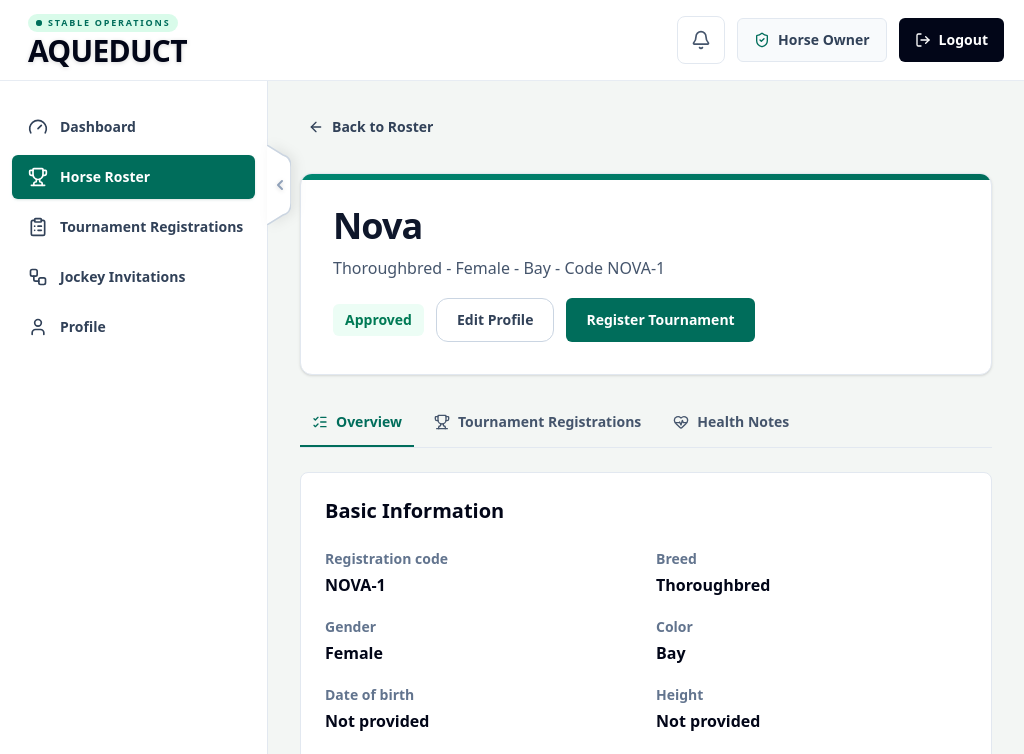
Test: OwnerHorseProfilePage › paginates this horse's tournament registrations
Check: the heading "Nova" is shown, box [333,201,422,250]
Click the button "Tournament Registrations" at [538, 423], box [422,399,653,447]
(page scrolled)
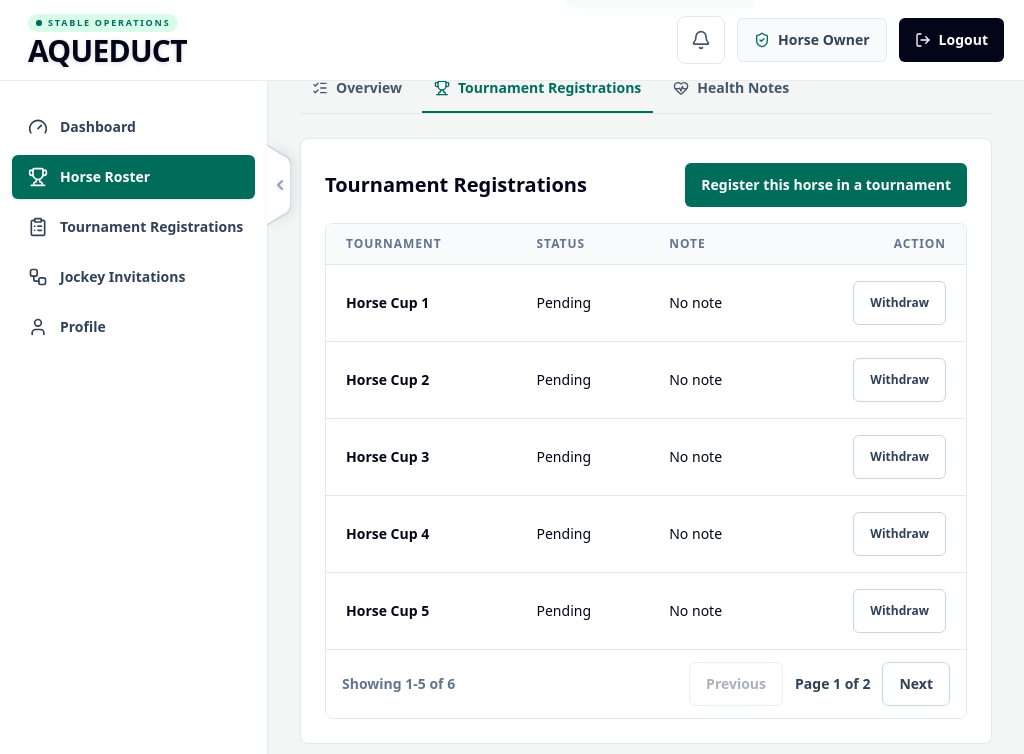
Check: the text "Horse Cup 6" is not shown
Check: the text "Horse Cup 1" is shown, box [326,264,516,342]
Check: the text "Showing 1-5 of 6" is shown, box [342,674,455,694]
Click the button with aria-label "next page" at [916, 684], box [882,662,950,706]
(page scrolled)
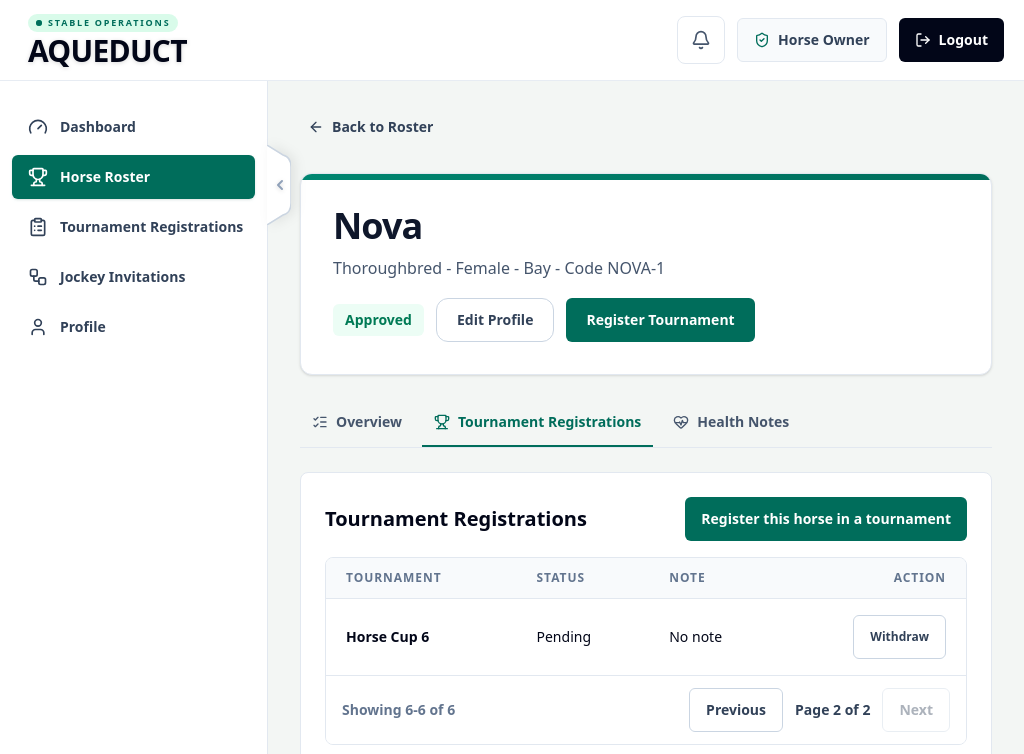
Check: the text "Horse Cup 6" is shown, box [326,598,516,675]
Check: the text "Horse Cup 1" is gone
